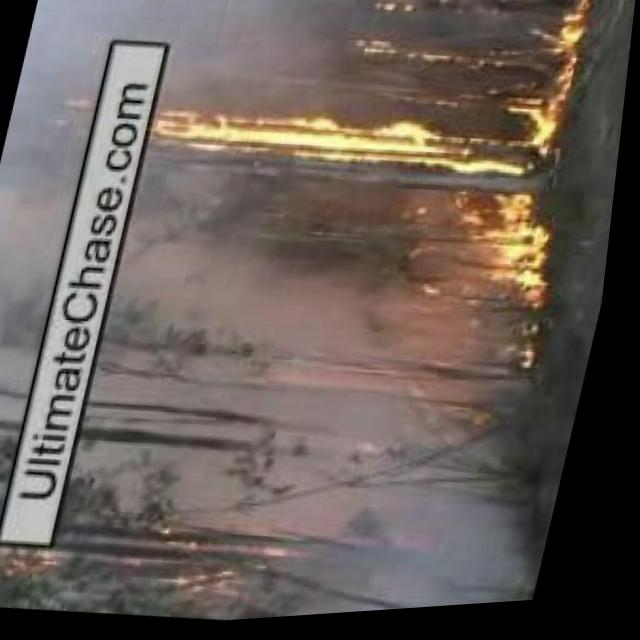Fire: (124, 85, 566, 204), (408, 186, 573, 363), (152, 536, 298, 626), (508, 0, 597, 130), (0, 525, 97, 602), (350, 30, 486, 81)
